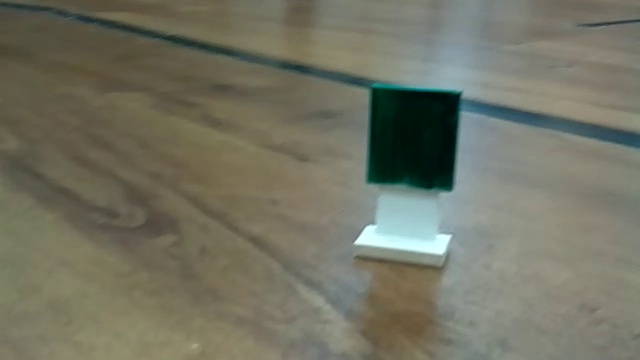rect: (344, 77, 480, 273)
